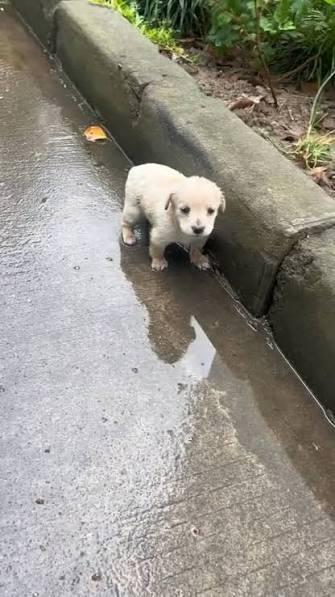puppy-dog: (120, 161, 224, 272)
